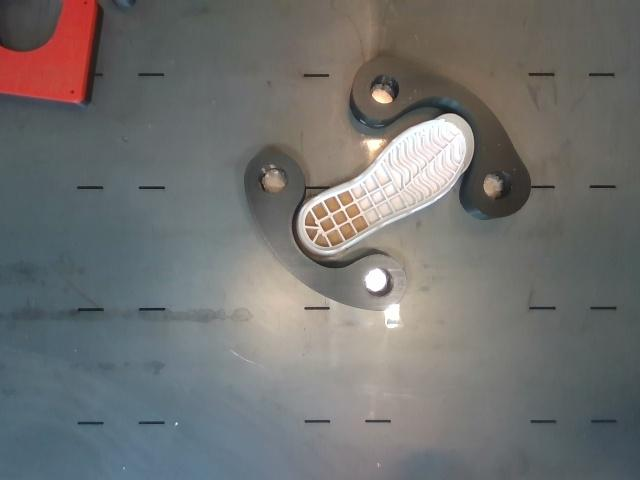shoes: (301, 114, 473, 251)
